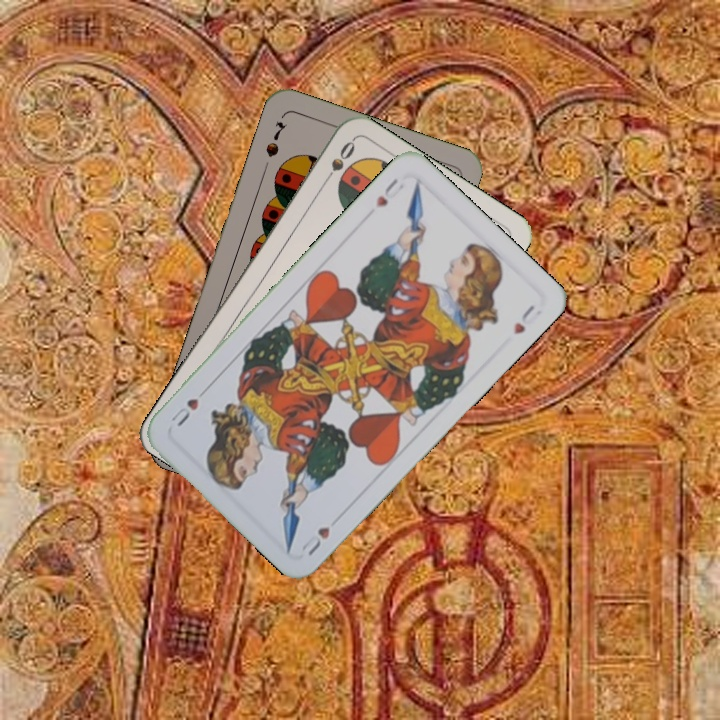HU: (297, 522, 333, 559), (371, 174, 407, 210)
S7: (261, 117, 290, 160)
SO: (318, 137, 358, 189)
